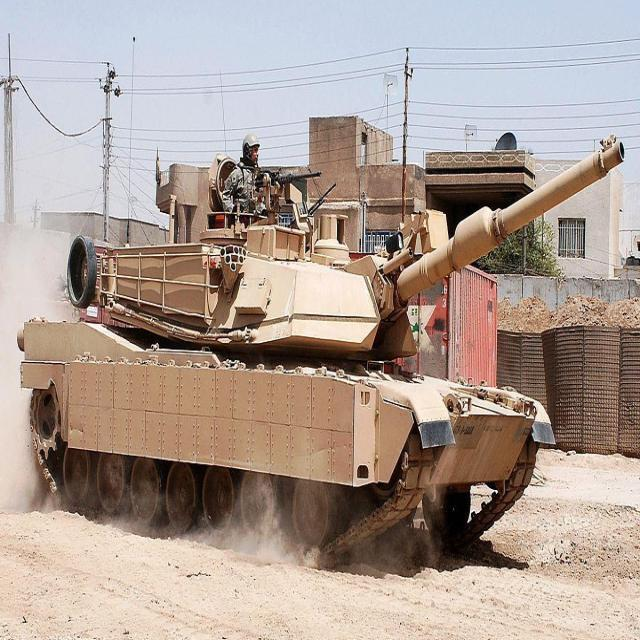MIL_MBT: (22, 187, 555, 576)
